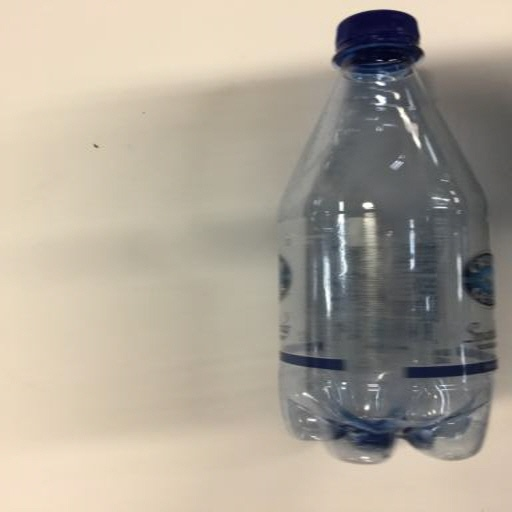Plastic_0: (270, 9, 497, 461)
